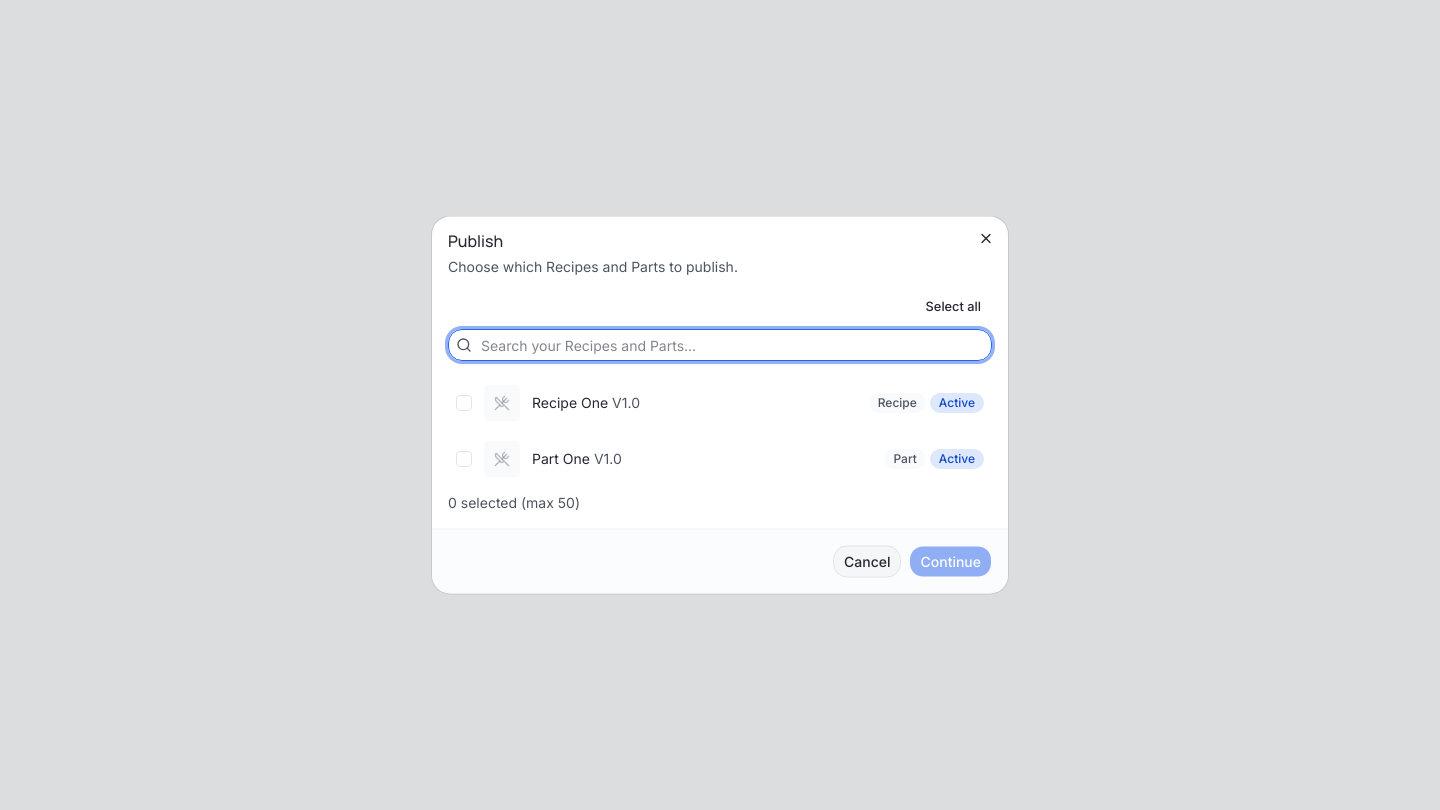
Test: BulkPublishDialog › reports a partial failure per item rather than hiding it behind the successful ones
Expected: the text "Recipe One" is shown, [532,394,608,410]
Click the button "Select all" at point(953, 306), box [915,292,992,320]
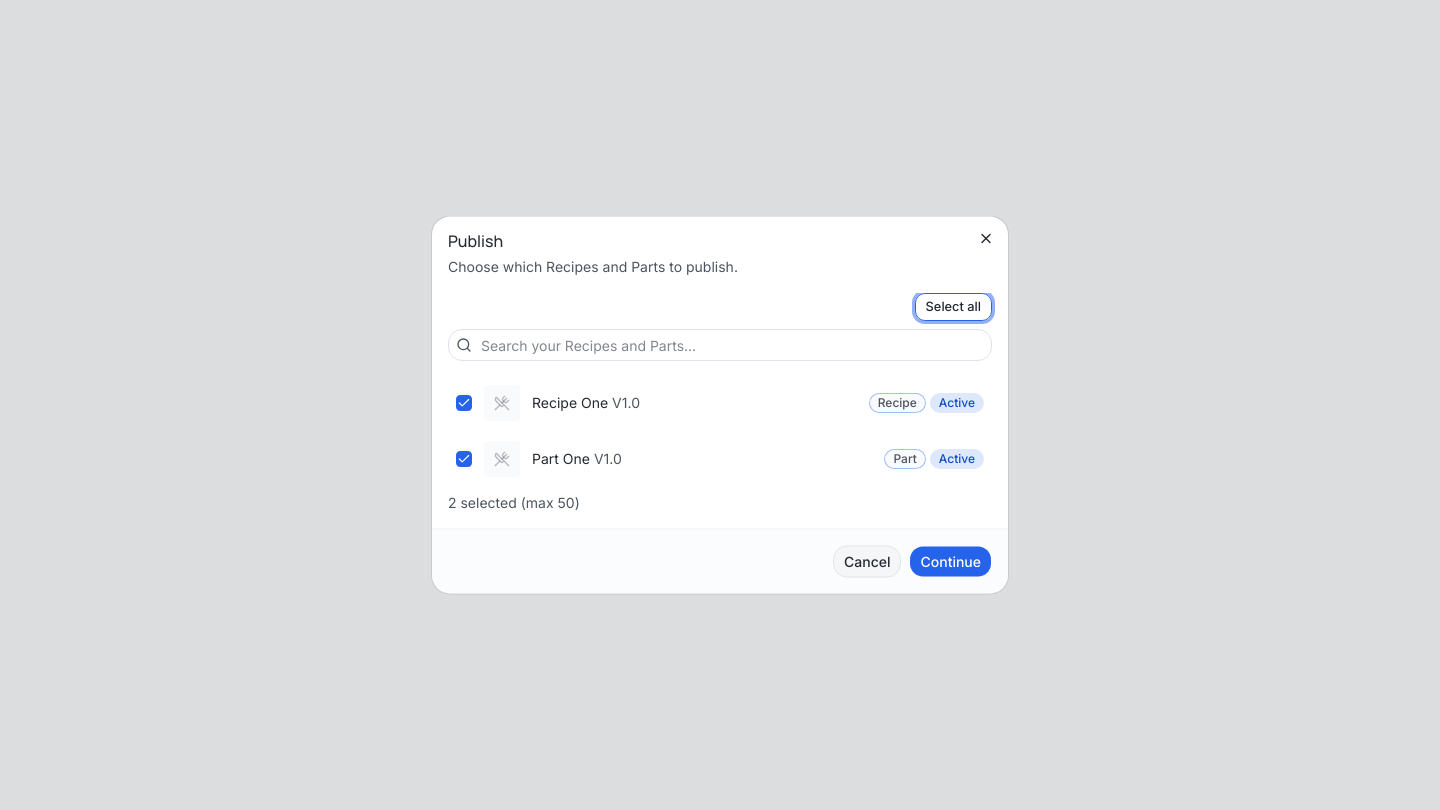
Click the button "Continue" at point(951, 562), box [910,546,992,578]
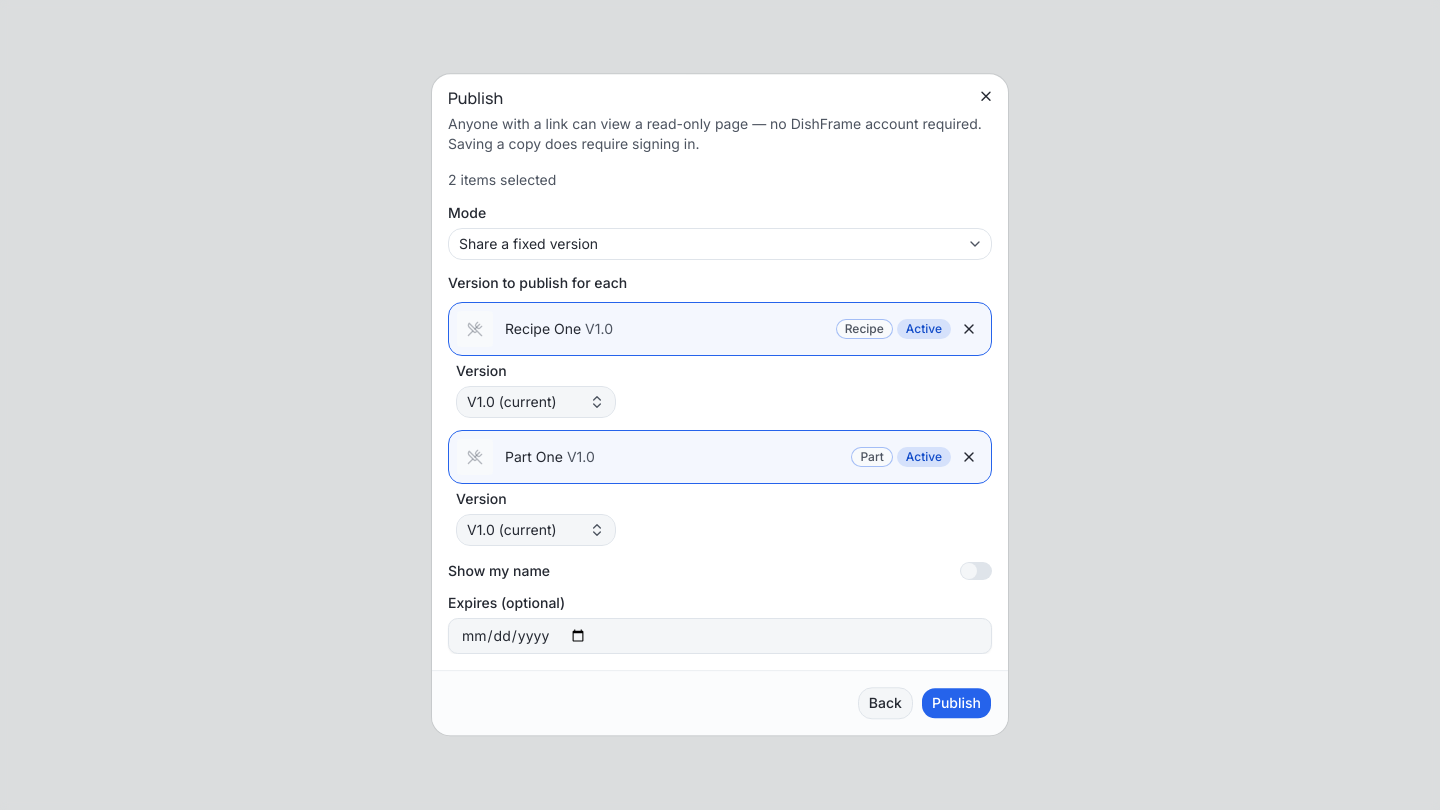
Click the dropdown labelled "Share a fixed version" at point(529, 244), box [448,228,992,260]
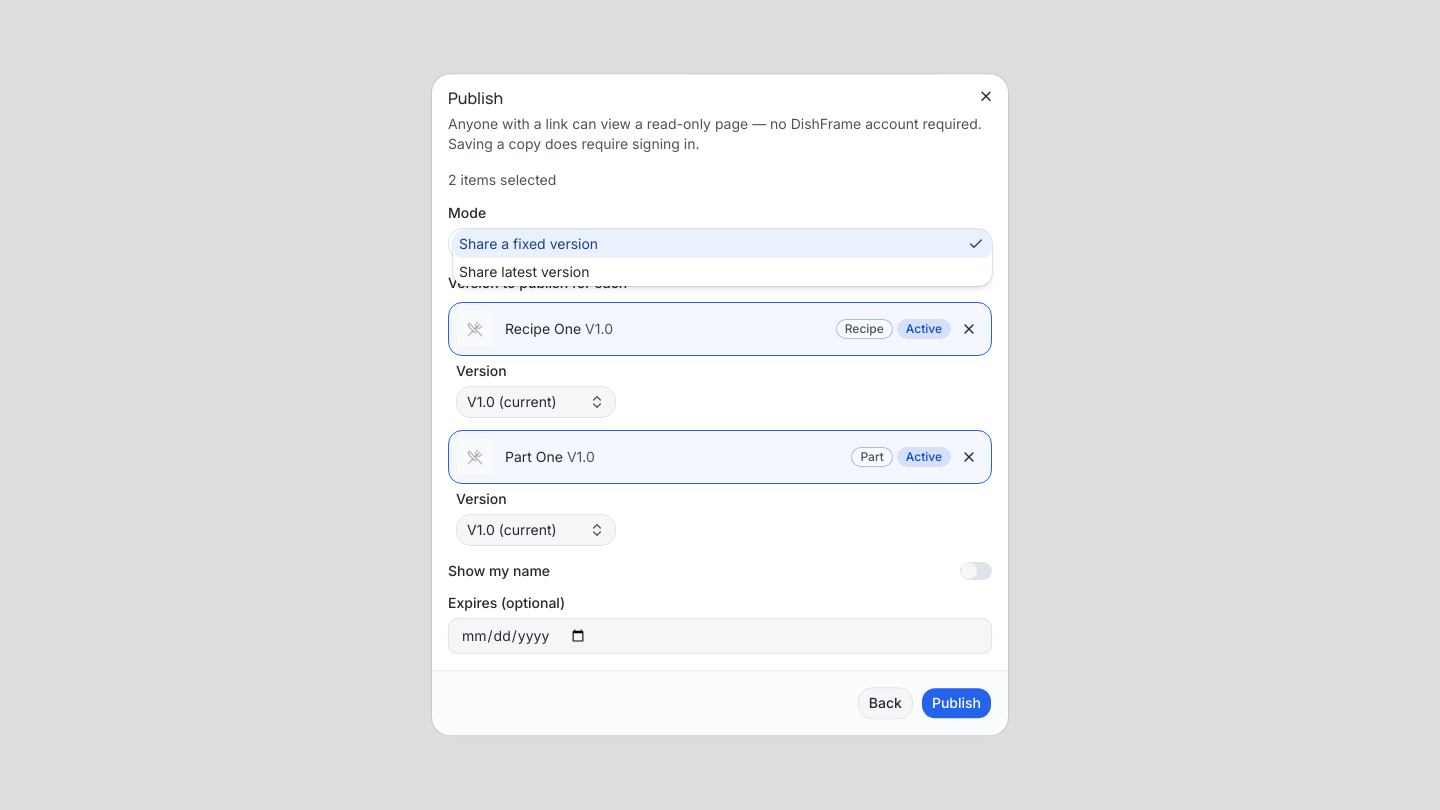
Click the option "Share latest version" at point(524, 272), box [459,263,590,280]
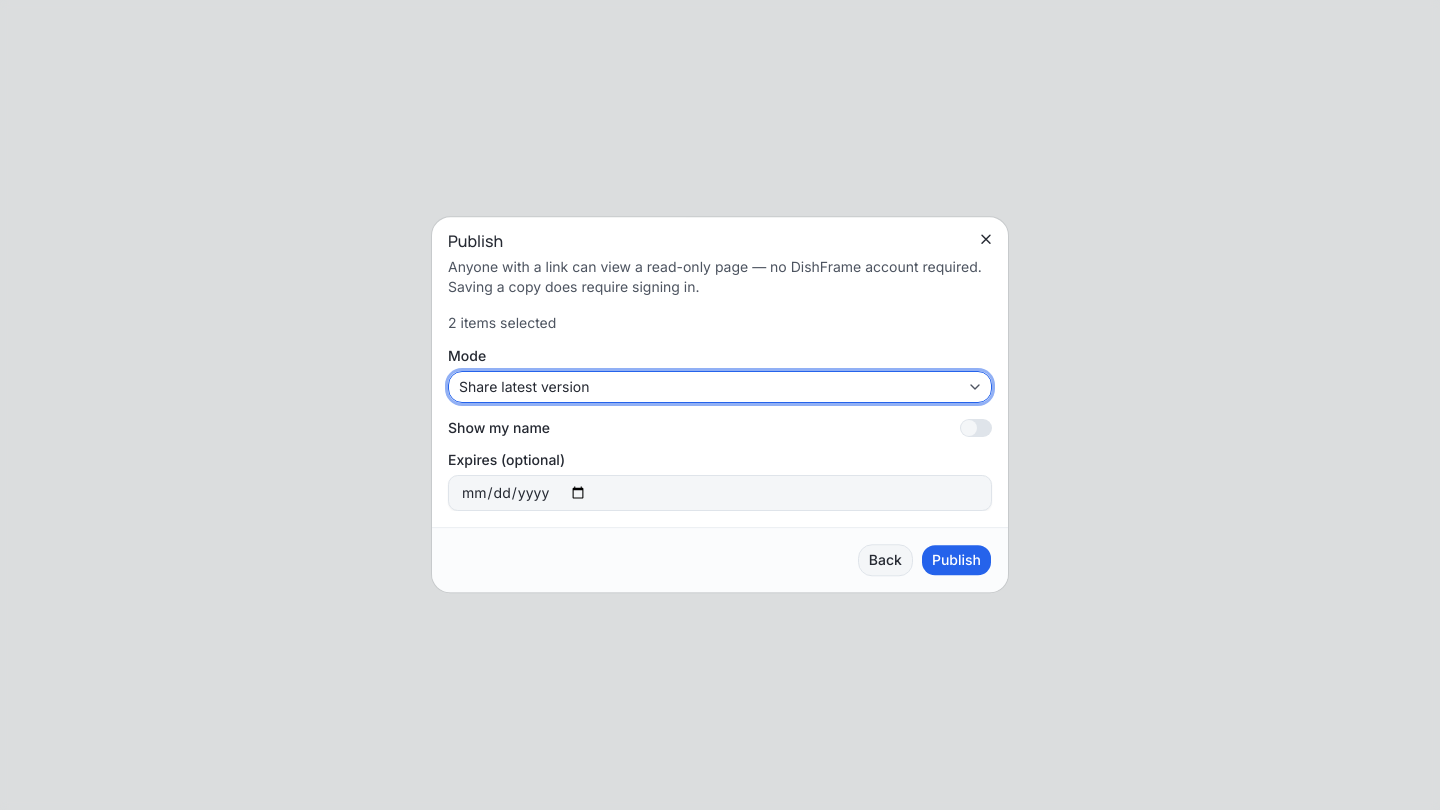
Click the button "Publish" at point(956, 561), box [921,545,992,577]
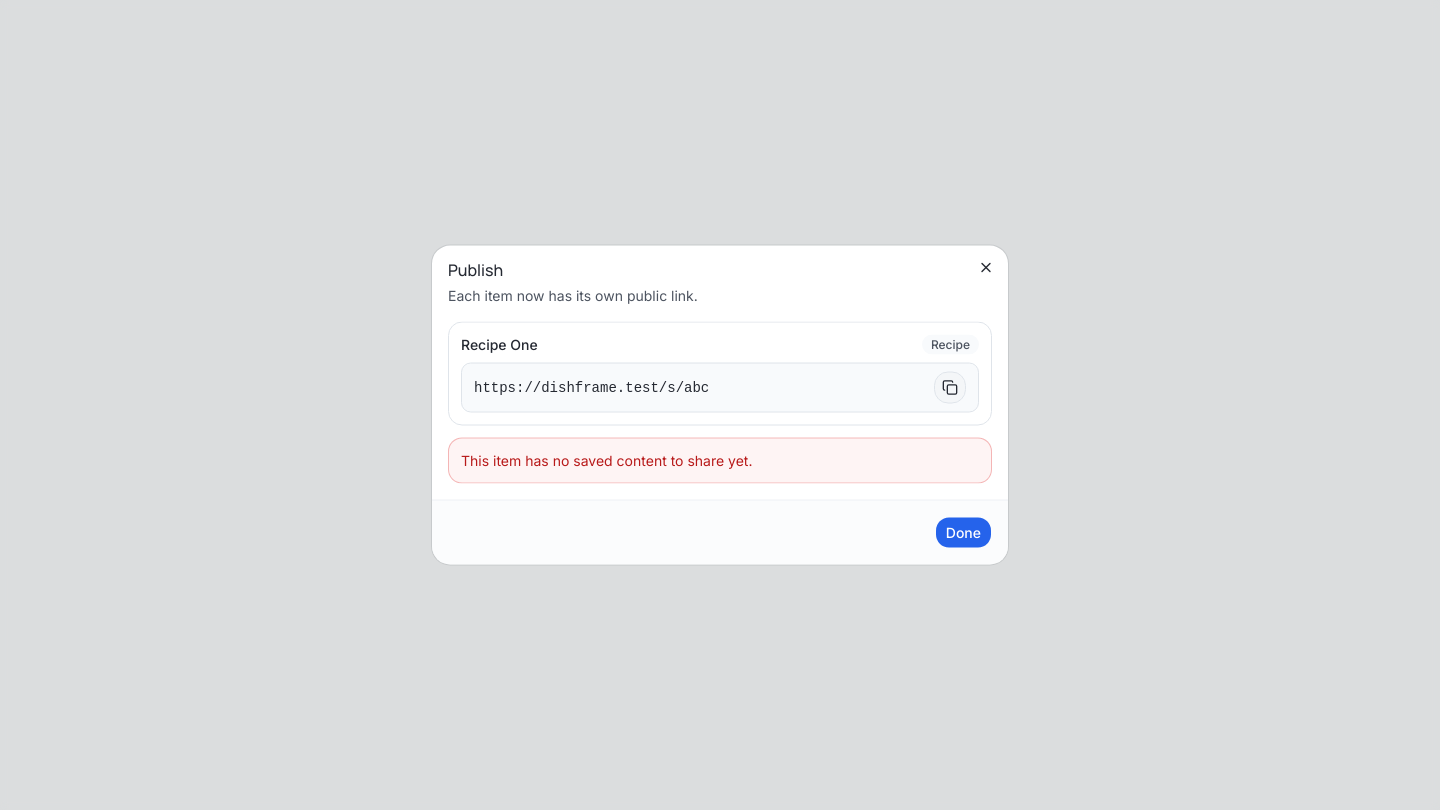
Now the text "https://dishframe.test/s/abc" is shown, box [474,380,709,396]
Now the text "This item has no saved content to share yet." is shown, box [461,452,752,468]
